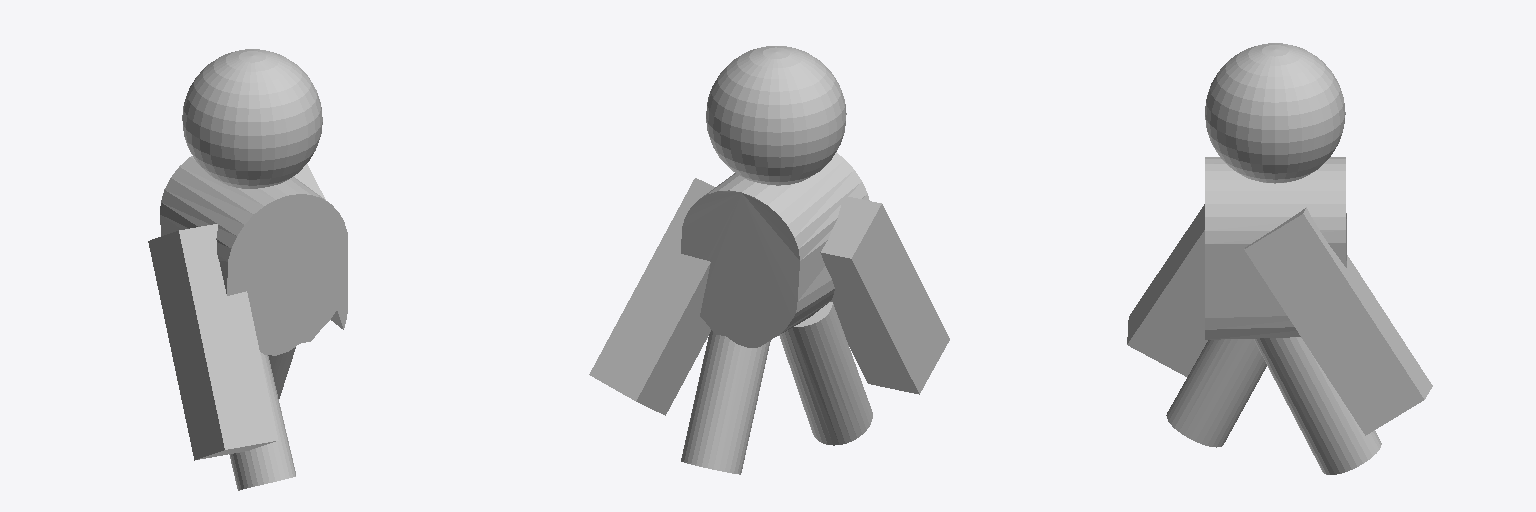
The model's file is Figurine143.obj.
The picture shows the model from 3 angles: view 1: azimuth 30°, elevation 25°; view 2: azimuth 150°, elevation 25°; view 3: azimuth 270°, elevation 25°; orthographic projection.
Visible parts, largest first — view 1: Cylinder; view 2: Cylinder; view 3: Cylinder.
Part boxes in pixels (bbox=[...]): Cylinder: bbox=[148, 49, 347, 490]; Cylinder: bbox=[589, 46, 949, 474]; Cylinder: bbox=[1127, 43, 1432, 474].
Size of the model in its own units: 3.49 by 6.38 by 4.34.